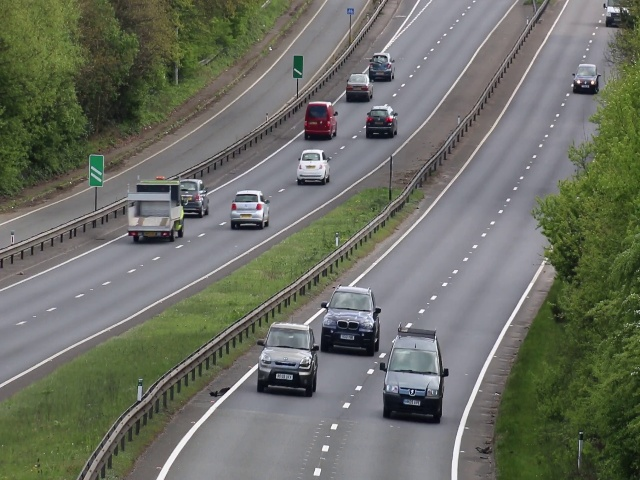car: (380, 327, 446, 422), (258, 321, 319, 399), (124, 176, 186, 243), (320, 285, 380, 354), (228, 188, 272, 229), (303, 100, 338, 141), (294, 150, 331, 185), (365, 104, 398, 140), (179, 179, 209, 215), (571, 62, 602, 94), (344, 72, 376, 100), (368, 50, 395, 83)
